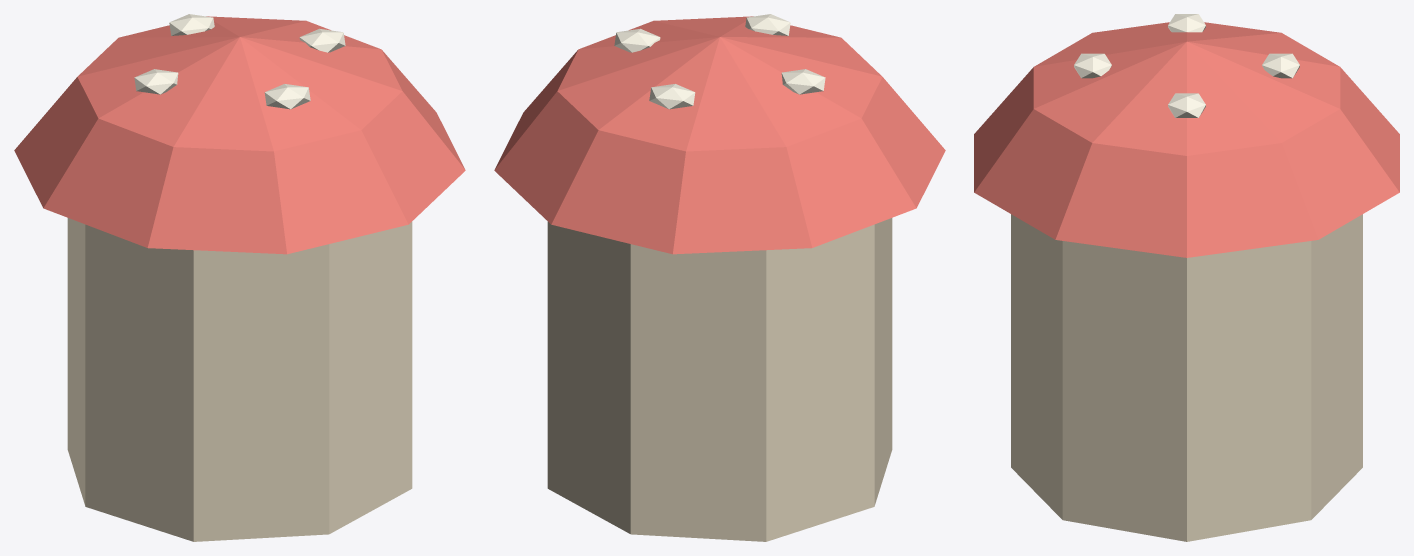
Rendered from drop_redwhite_mushroom.glb.
3 views of the same model, side by side, from view 1: azimuth 30°, elevation 25°; view 2: azimuth 150°, elevation 25°; view 3: azimuth 270°, elevation 25° (orthographic).
Parts seen in each view (by area): view 1: FTF_Nature_Mushroom_RedWhite_Pickup_StaticMesh; view 2: FTF_Nature_Mushroom_RedWhite_Pickup_StaticMesh; view 3: FTF_Nature_Mushroom_RedWhite_Pickup_StaticMesh.
Part boxes in pixels (x1,y1,x2,y2): FTF_Nature_Mushroom_RedWhite_Pickup_StaticMesh: (14, 14, 465, 541); FTF_Nature_Mushroom_RedWhite_Pickup_StaticMesh: (494, 14, 945, 541); FTF_Nature_Mushroom_RedWhite_Pickup_StaticMesh: (974, 14, 1399, 541).
Size of the model in its own units: 0.56 by 0.588 by 0.5326.
